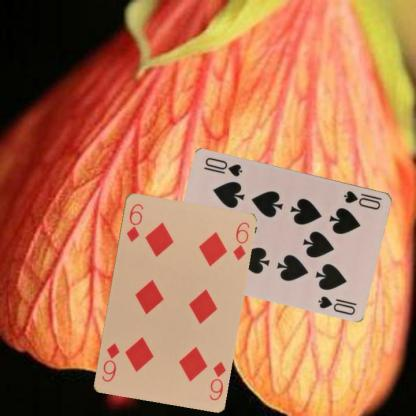10s: (341, 188, 384, 211)
6d: (124, 200, 145, 244), (206, 358, 227, 402)
